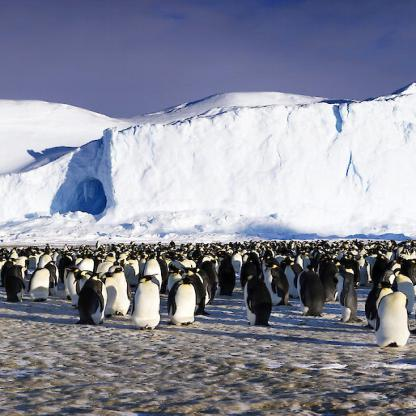Penguin: (126, 270, 177, 332), (365, 287, 415, 347), (231, 273, 279, 328), (324, 264, 365, 324), (165, 270, 211, 323), (72, 272, 115, 325), (100, 266, 141, 314), (291, 266, 331, 314), (204, 245, 236, 293), (29, 258, 63, 301)
